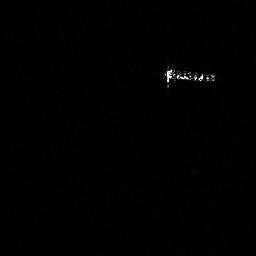ship: (161, 63, 217, 89)
